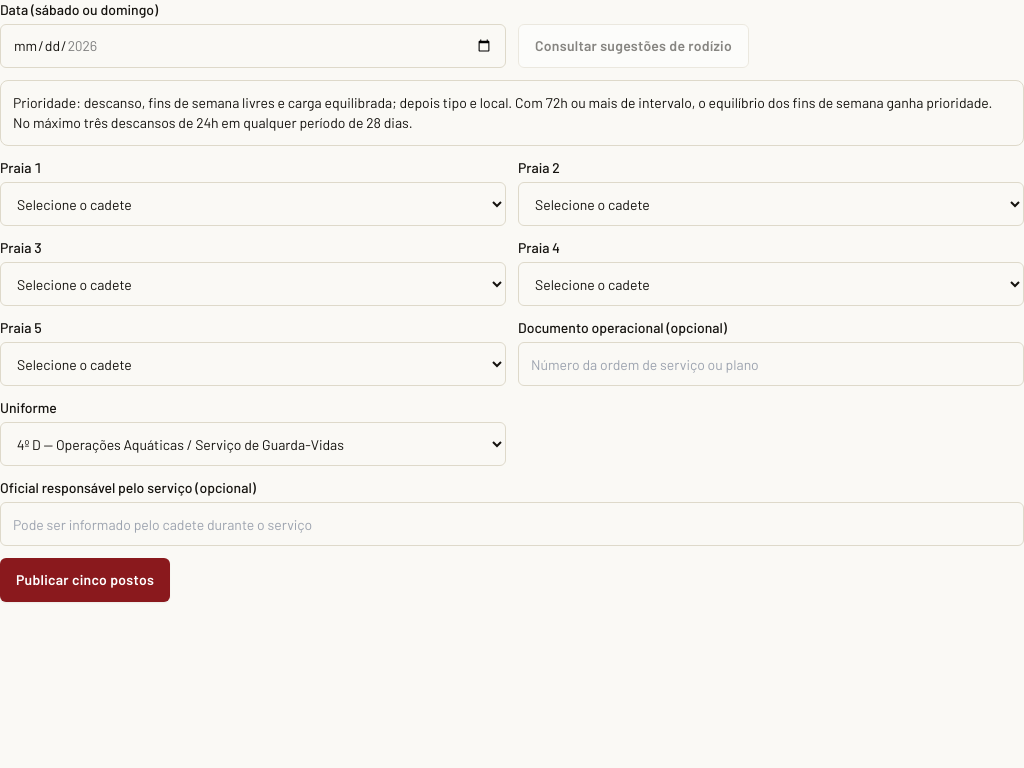
Test: planejamento com rodízio › não preenche um dia com menos de cinco disponíveis
Type "2026-10-10" into the date field labelled "Data (sábado ou domingo)" at coordinates (253, 46), box [0,24,506,68]
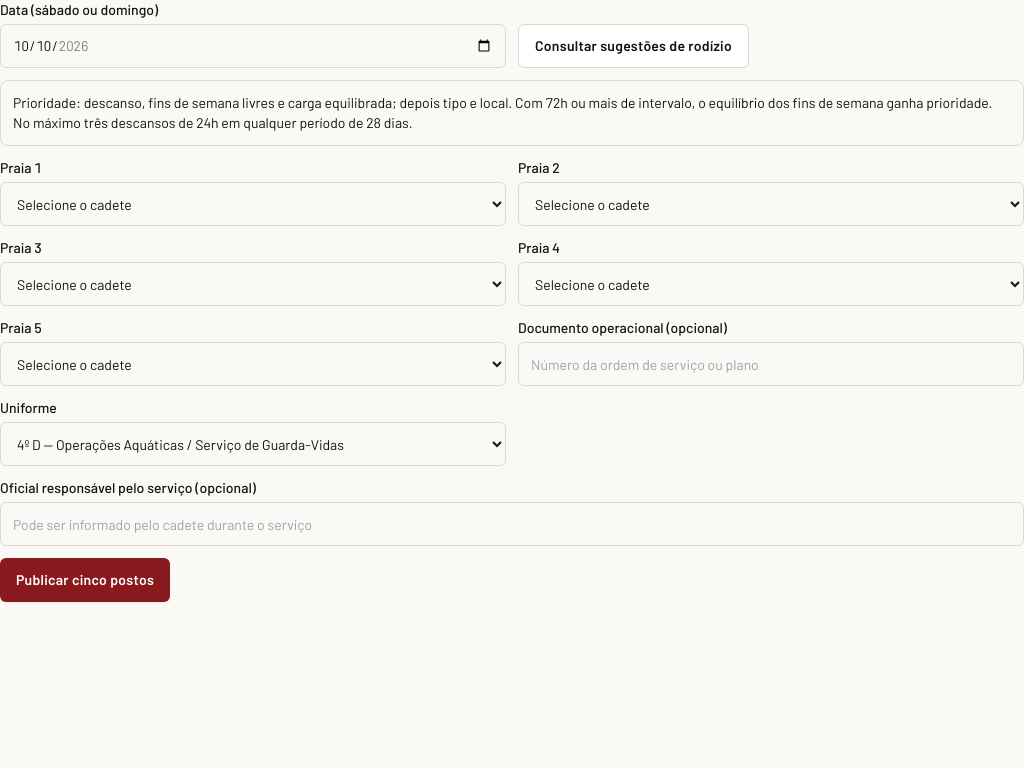
Click the button "Consultar sugestões de rodízio" at coordinates (634, 46), box [518,24,749,68]
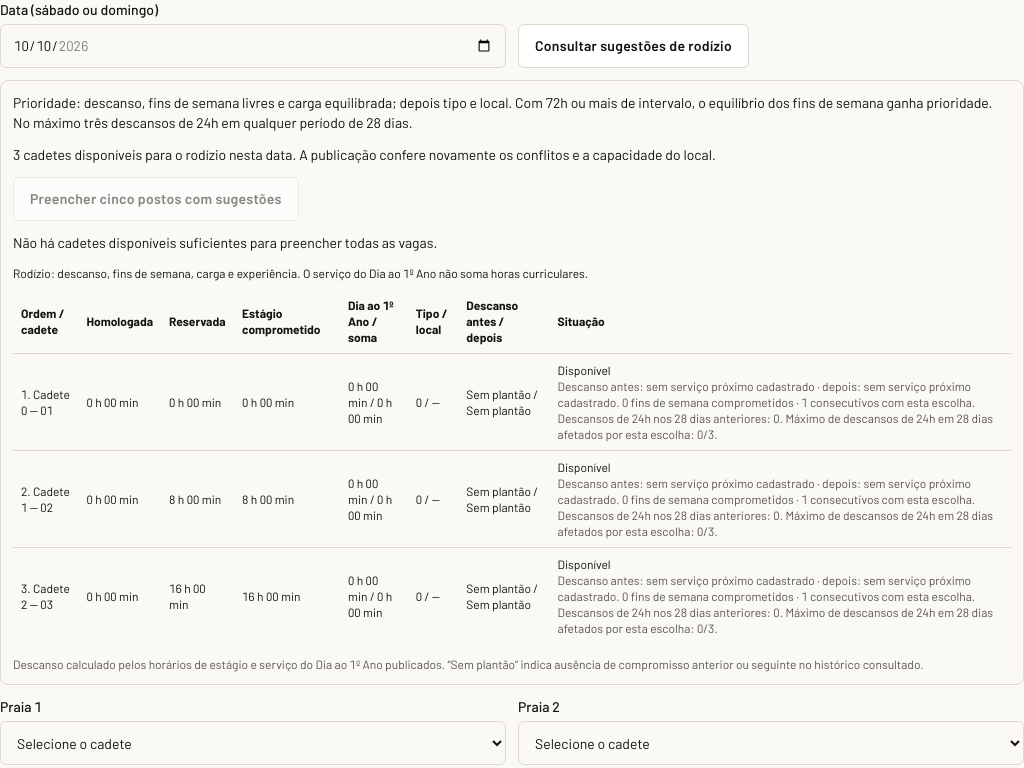
Expected: the button "Preencher cinco postos com sugestões" is disabled, [13,177,299,221]
Expected: the text "Não há cadetes disponíveis suficientes para preencher todas as vagas." is shown, [13,234,437,251]
